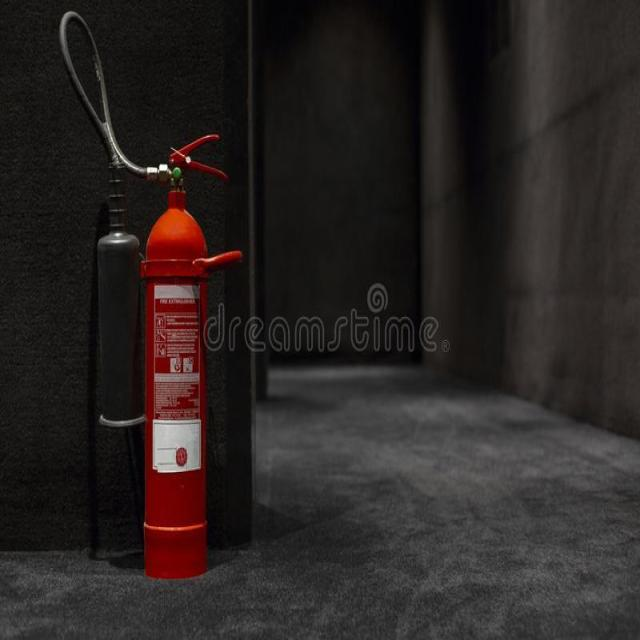fire_extinguisher: (54, 6, 250, 586)
